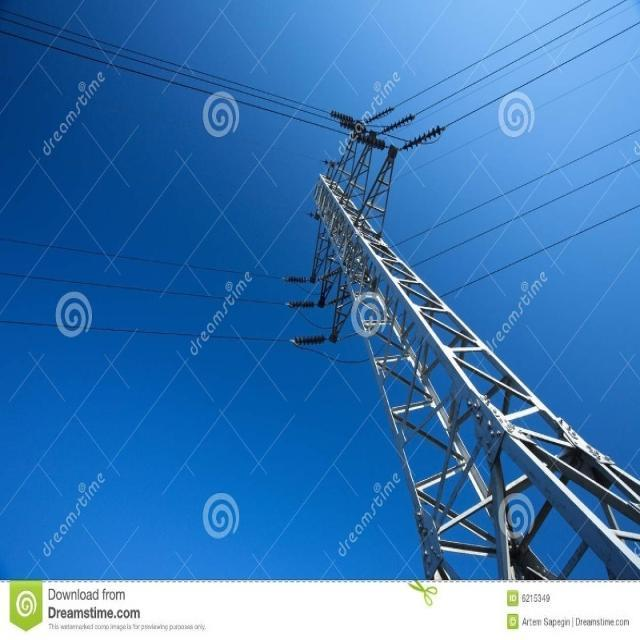non-critical vegetation: (299, 130, 622, 564)
